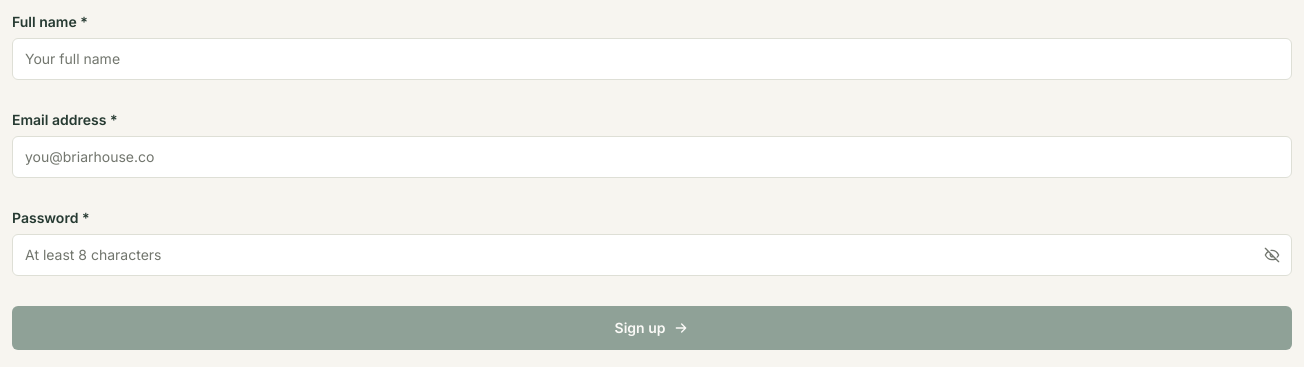
Test: SignupForm › shows a disabled loading button while signing up
The width and height of the screenshot is (1304, 367).
Type "Sam Lee" into the field labelled "Full name" at (652, 59), box [12,38,1292,80]
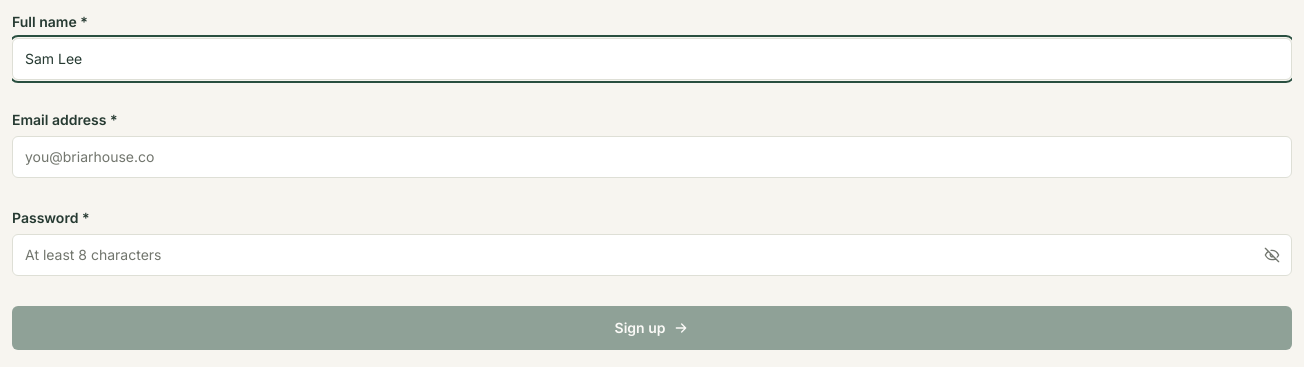
Type "sam@hotel.com" into the field labelled "Email address" at (652, 157), box [12,136,1292,178]
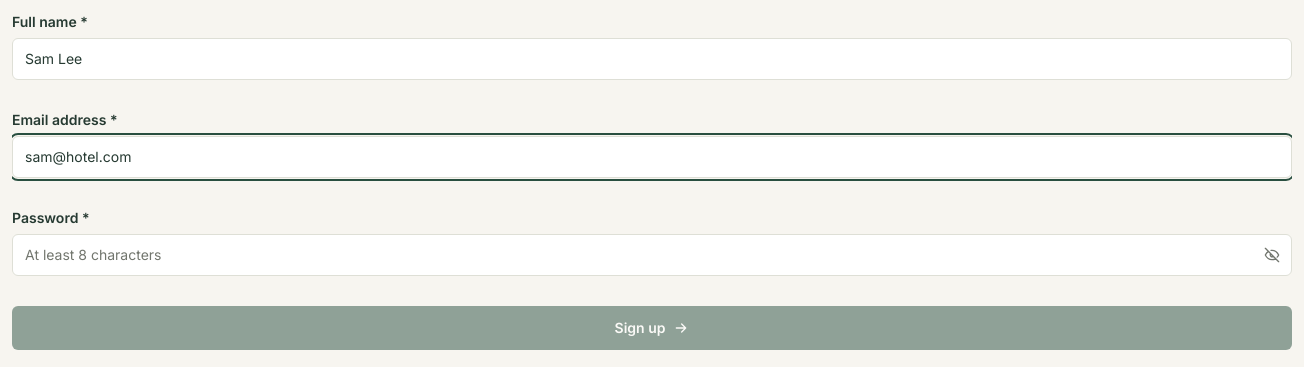
Type "at-least-8" into the password field labelled "Password" at (652, 255), box [12,234,1292,276]
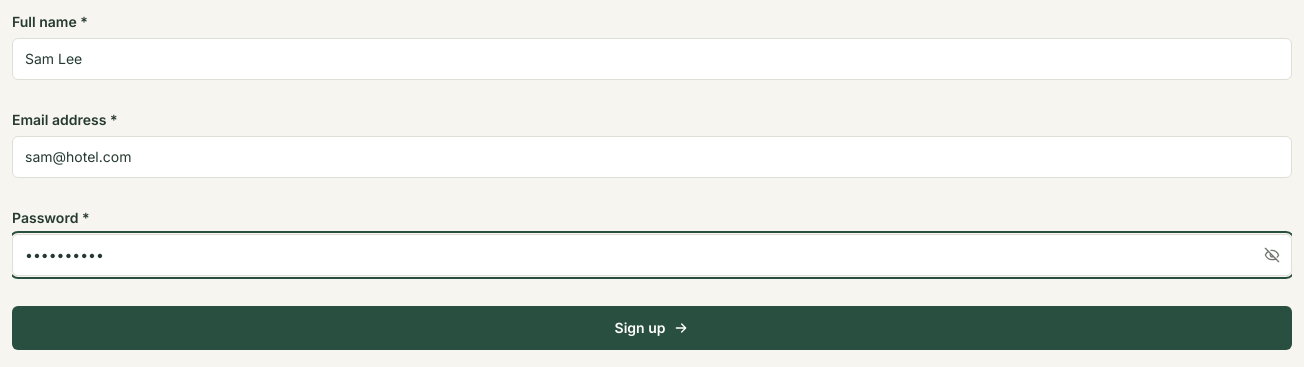
Click the button "Sign up" at (652, 328), box [12,306,1292,350]
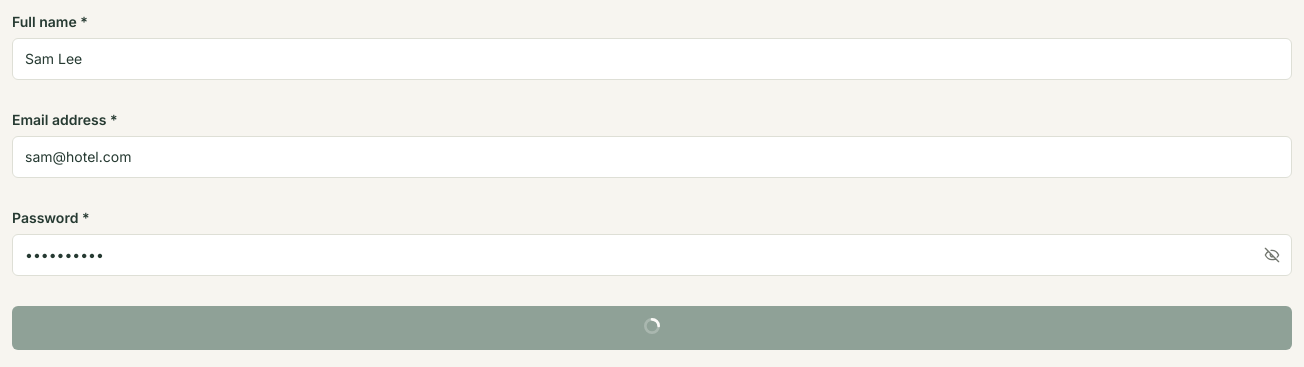
Now the button named "Sign up" is disabled, box [12,306,1292,350]
